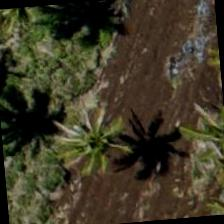Kelapa_Sawit: (65, 97, 163, 195), (171, 91, 223, 186)
